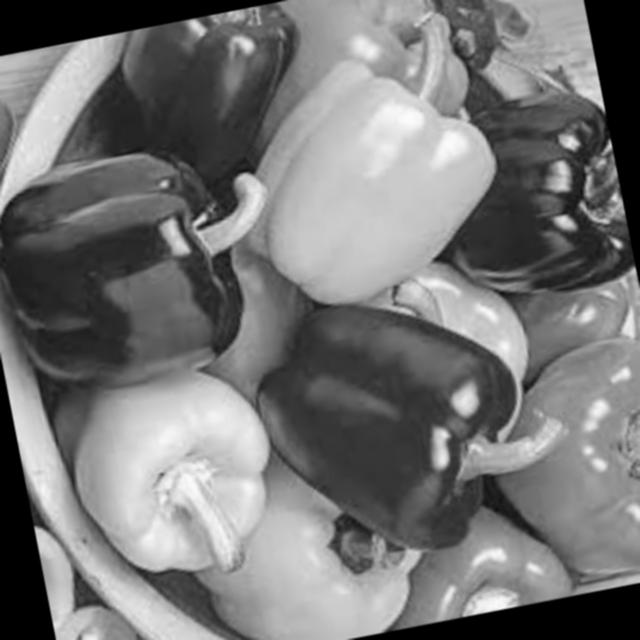ot chuong: (233, 256, 580, 588), (204, 28, 511, 336), (0, 122, 283, 405), (49, 332, 300, 606), (181, 429, 436, 640), (428, 74, 638, 316), (248, 0, 493, 153), (505, 328, 640, 592), (120, 4, 307, 192), (372, 486, 580, 632), (497, 252, 640, 396), (37, 521, 146, 640), (0, 58, 25, 217)
